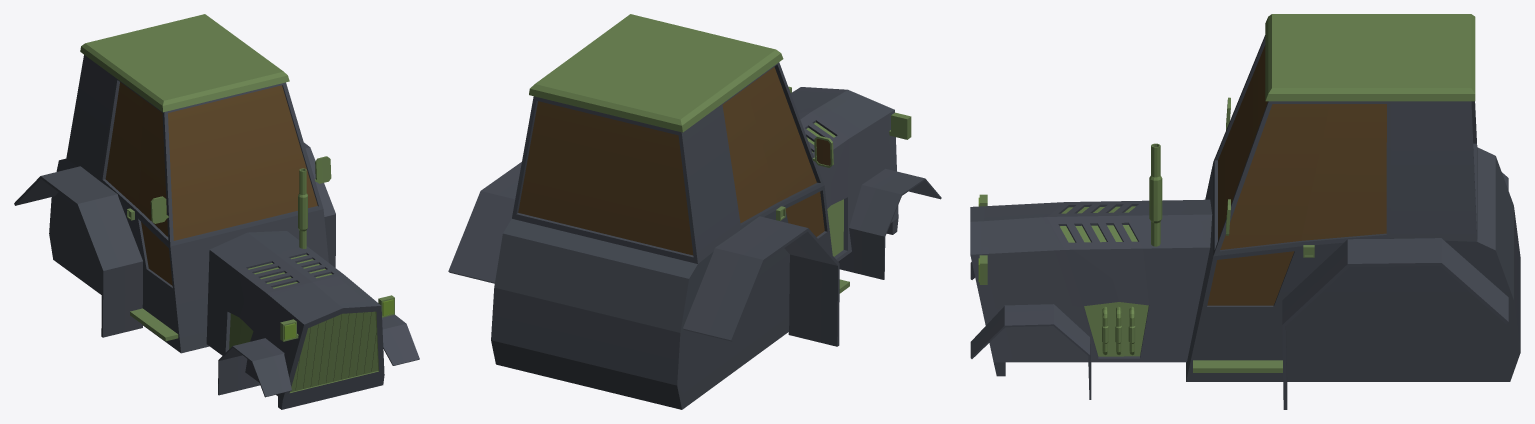
The model's file is Tractor_01.fbx.
3 views of the same model, side by side, from view 1: azimuth 30°, elevation 25°; view 2: azimuth 150°, elevation 25°; view 3: azimuth 270°, elevation 25° (orthographic). The views are drawn at different scales.
Visible parts, largest first — view 1: Tractor_01; view 2: Tractor_01; view 3: Tractor_01.
Part boxes in pixels (x1,y1,x2,y2): Tractor_01: (14, 14, 419, 409); Tractor_01: (448, 14, 941, 409); Tractor_01: (970, 14, 1520, 409).
Bounding box in the file's own units: 2.11 × 2.06 × 3.41.
